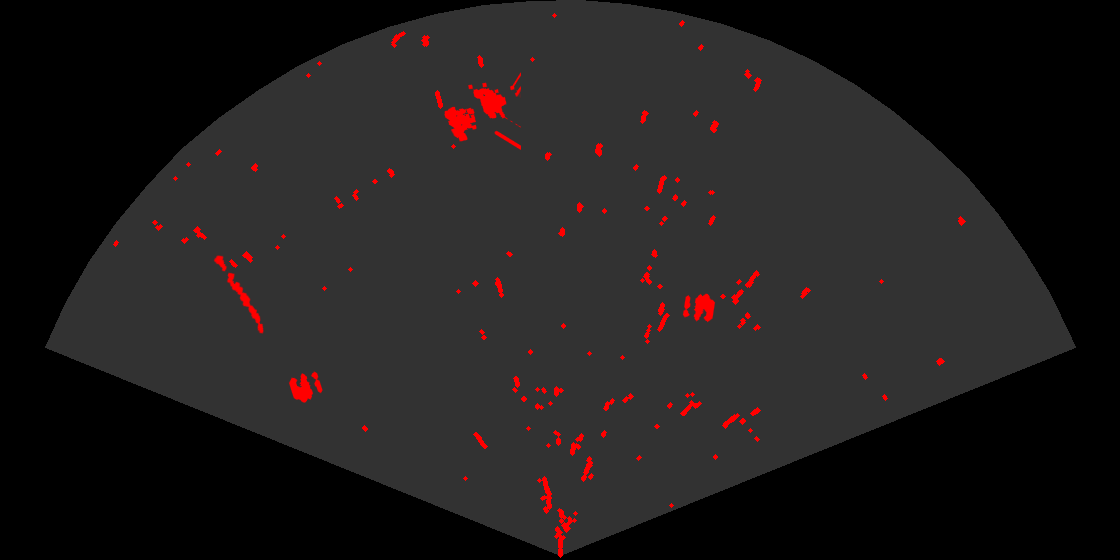ball: (287, 370, 324, 404), (681, 292, 717, 324)
cage: (443, 71, 521, 151)
chain: (212, 254, 265, 335)
